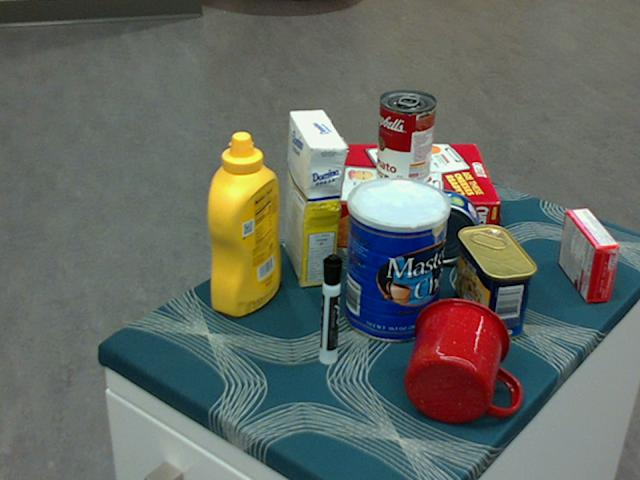cracker_box: (313, 142, 499, 250)
gelatin_box: (558, 208, 619, 303)
large_marker: (318, 253, 341, 366)
master_chef_can: (345, 177, 451, 343)
mug: (405, 296, 519, 423)
mustard_bottle: (206, 132, 282, 317)
potted_meat_can: (454, 225, 538, 340)
sugar_box: (284, 110, 345, 289)
tomato_soup_can: (377, 90, 436, 190)
tuna_fish_can: (406, 189, 479, 264)
